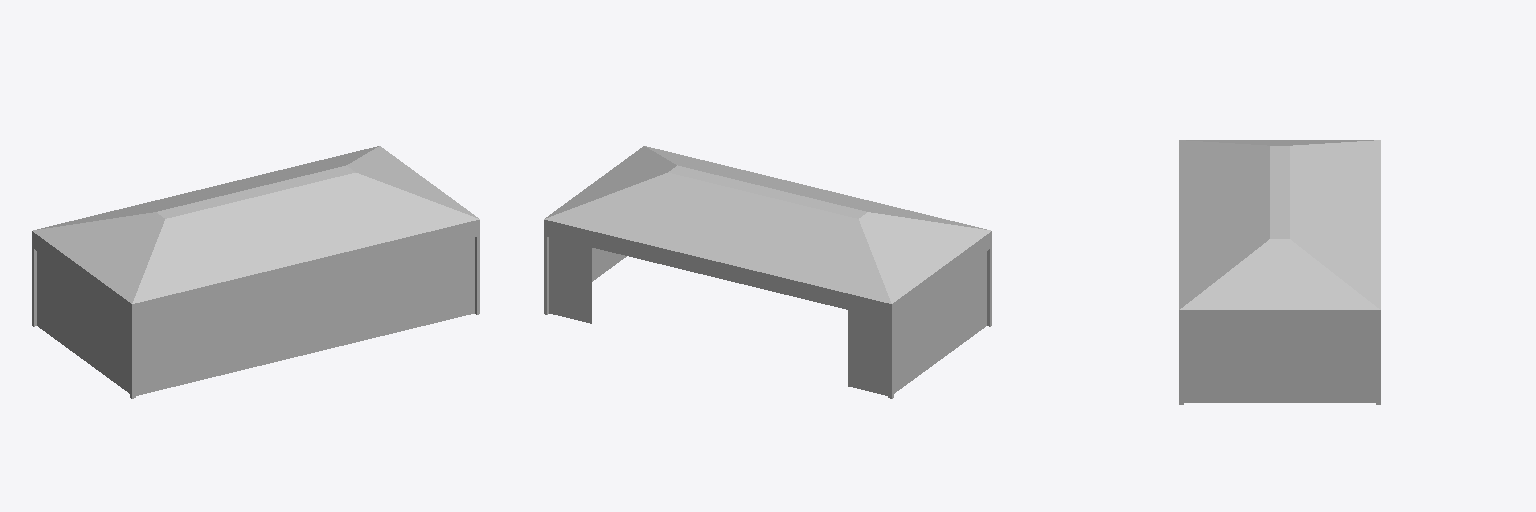
File: tentClosedLong.obj
3 renders of one model, left to right at view 1: azimuth 30°, elevation 25°; view 2: azimuth 150°, elevation 25°; view 3: azimuth 270°, elevation 25°, orthographic.
Parts seen in each view (by area): view 1: tentClosedLong; view 2: tentClosedLong; view 3: tentClosedLong.
Part boxes in pixels (bbox=[...]): tentClosedLong: bbox=[32, 146, 479, 398]; tentClosedLong: bbox=[544, 146, 991, 398]; tentClosedLong: bbox=[1179, 140, 1380, 404].
Bounding box in the file's own units: 20 × 7 × 10.